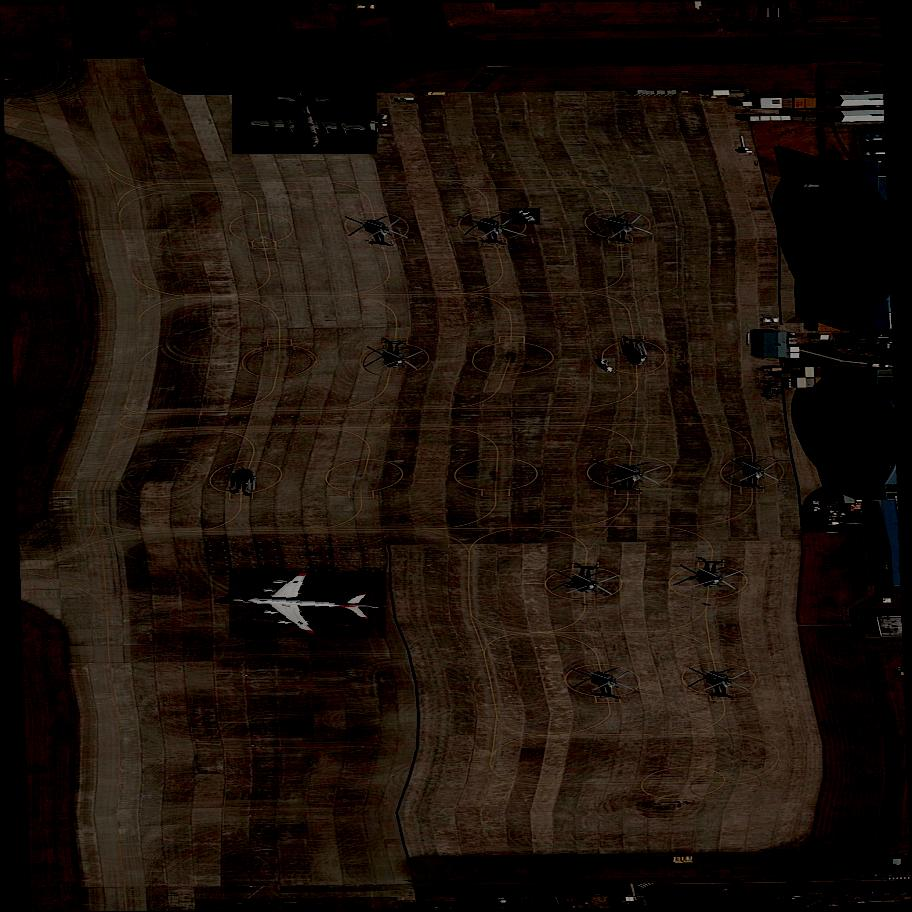plane: (227, 568, 390, 639), (231, 88, 378, 153)
small-vehicle: (510, 203, 541, 229), (597, 354, 616, 377), (483, 895, 498, 907), (861, 145, 883, 153), (366, 116, 378, 128), (809, 502, 821, 513), (608, 897, 620, 907), (861, 138, 884, 143), (424, 91, 446, 96), (579, 896, 590, 905), (811, 201, 825, 208), (506, 898, 518, 906), (540, 896, 553, 903), (467, 897, 478, 905), (496, 897, 506, 905), (763, 318, 779, 323), (398, 99, 415, 103), (804, 184, 820, 188), (861, 143, 881, 146), (828, 514, 847, 516)
